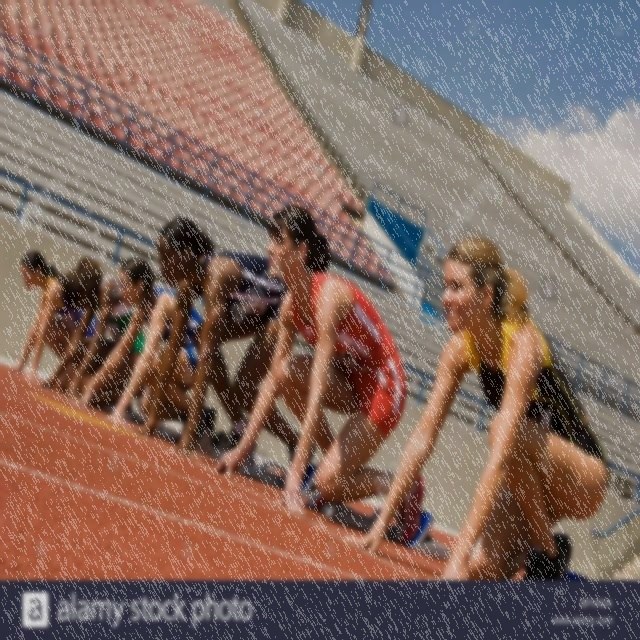pessoa: (344, 236, 609, 581), (214, 200, 427, 550), (126, 213, 318, 500), (76, 254, 218, 456), (39, 258, 149, 422), (10, 248, 100, 394)
